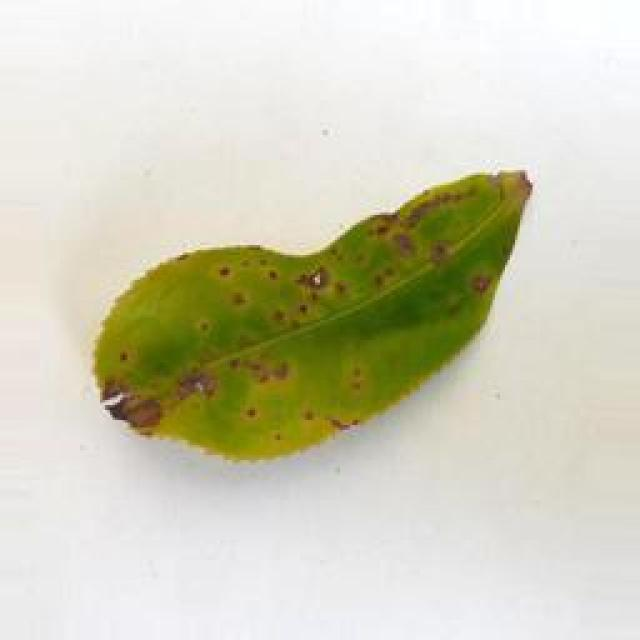Helopeltis: (87, 166, 541, 464)
